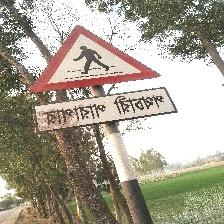Pedestrian-crossing: (28, 24, 176, 132)
